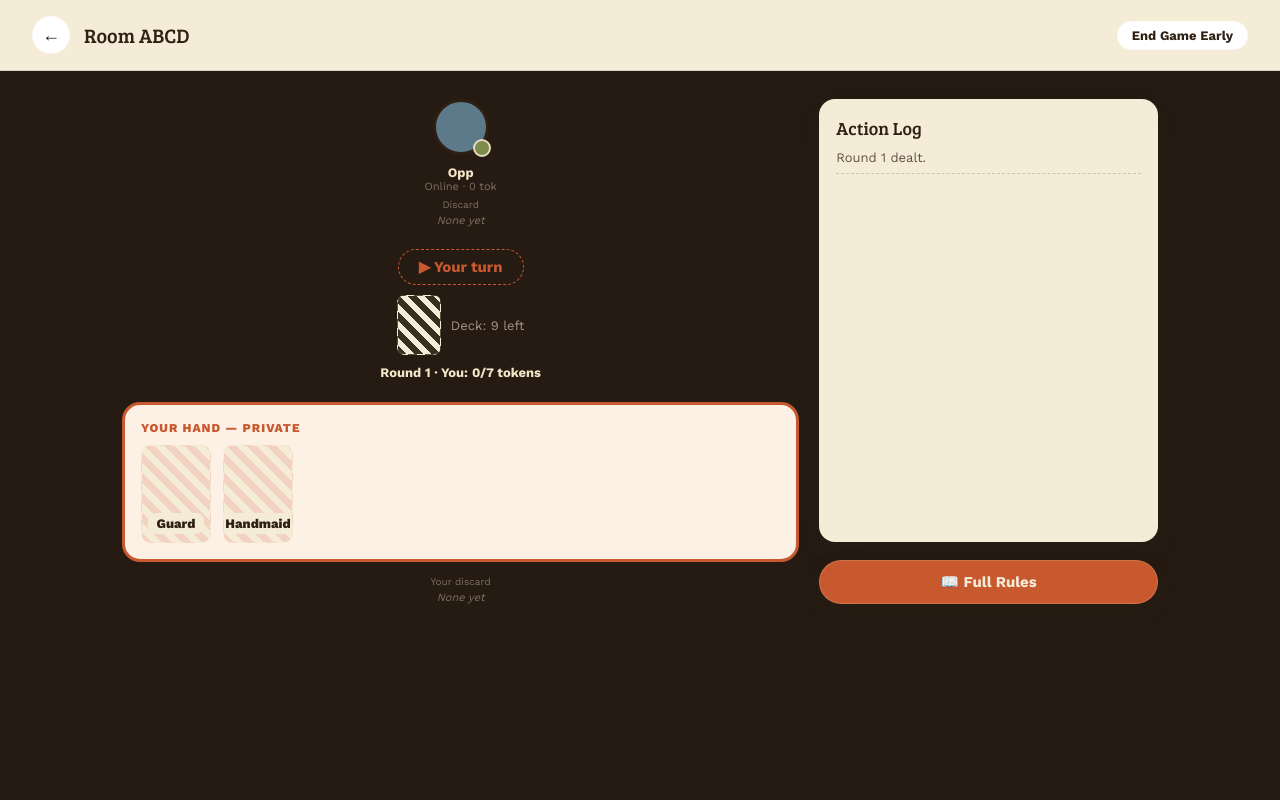
Test case: ActiveTableContainer › opens a preview modal with the card name, description, and a Play button on click
This screenshot has width=1280, height=800.
Step 1. Click the text "Handmaid" → [258, 524], box [216,513,300,534]
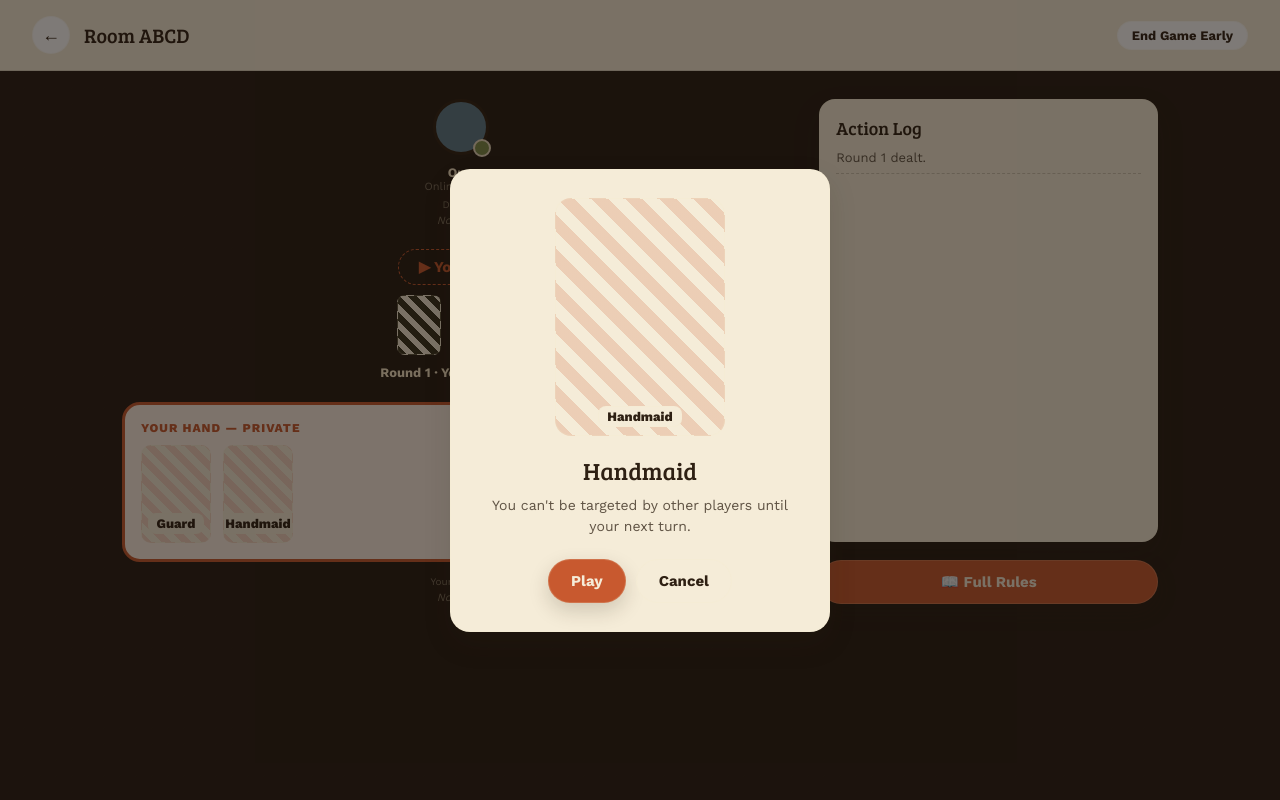
Now the button "Play" is shown, box [548,558,626,602]
Now the text "You can't be targeted by other players until your next turn." is shown, box [479,494,801,536]
